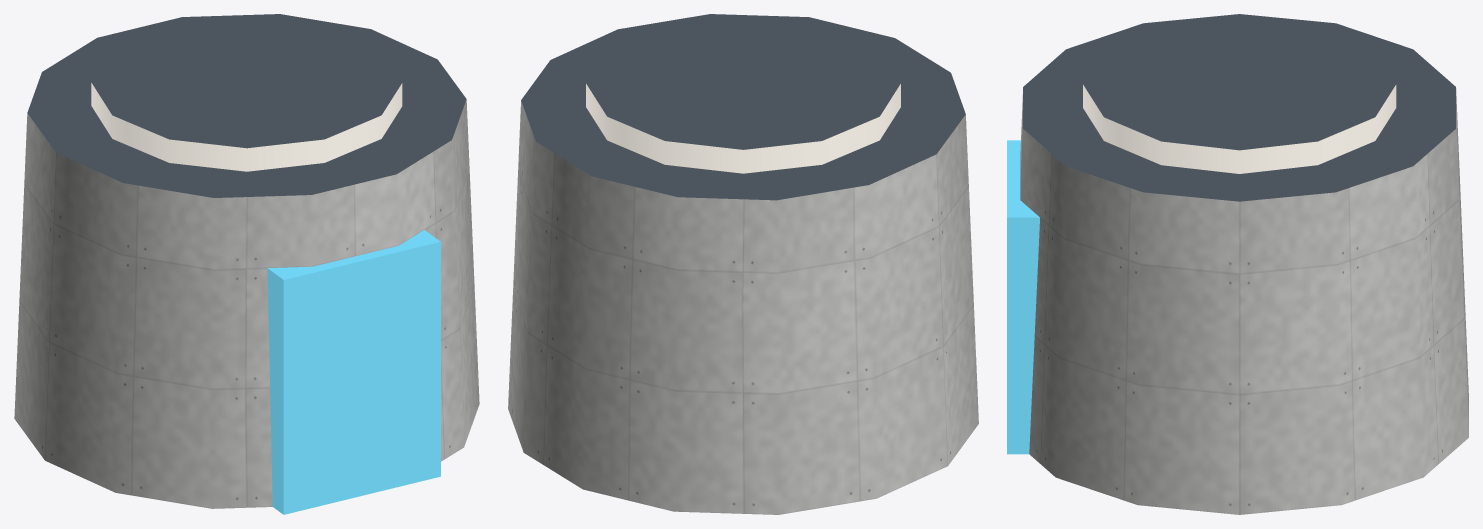
The model's file is prop_airlock_pod.glb.
3 views of the same model, side by side, from view 1: azimuth 30°, elevation 25°; view 2: azimuth 150°, elevation 25°; view 3: azimuth 270°, elevation 25° (orthographic).
Parts seen in each view (by area): view 1: prop_airlock_pod_LOD0; view 2: prop_airlock_pod_LOD0; view 3: prop_airlock_pod_LOD0.
Part boxes in pixels (x1=…): prop_airlock_pod_LOD0: x1=14, y1=14, x2=479, y2=514; prop_airlock_pod_LOD0: x1=508, y1=14, x2=978, y2=514; prop_airlock_pod_LOD0: x1=1007, y1=14, x2=1468, y2=514.
Size of what is drawn, in the model's own units: 3.6 by 2.8 by 3.53.
2 materials, 2 textured.
